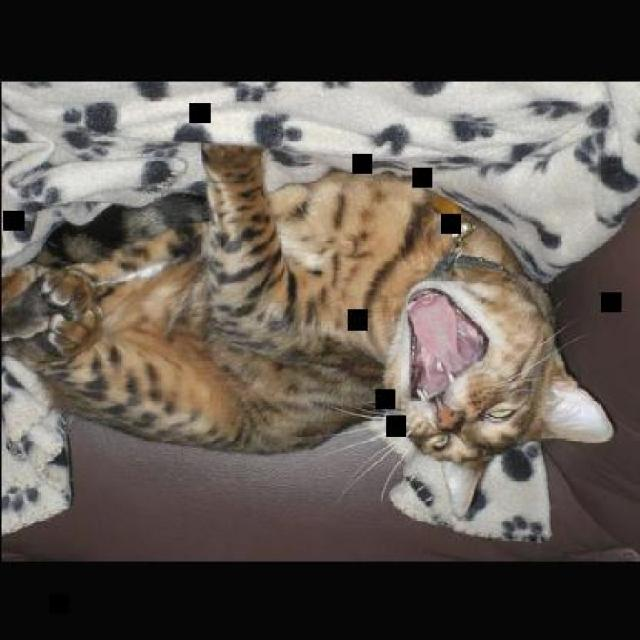unauthorized: (1, 140, 614, 542)
